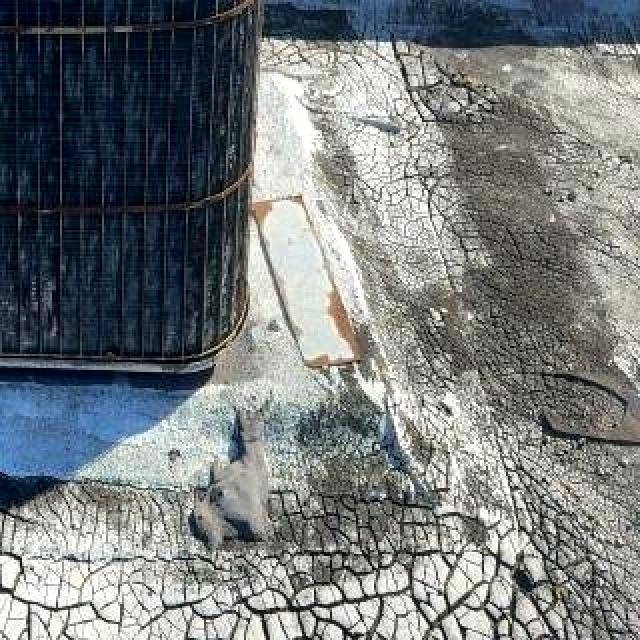SPLIT-SYSTEM: (0, 0, 304, 408)
